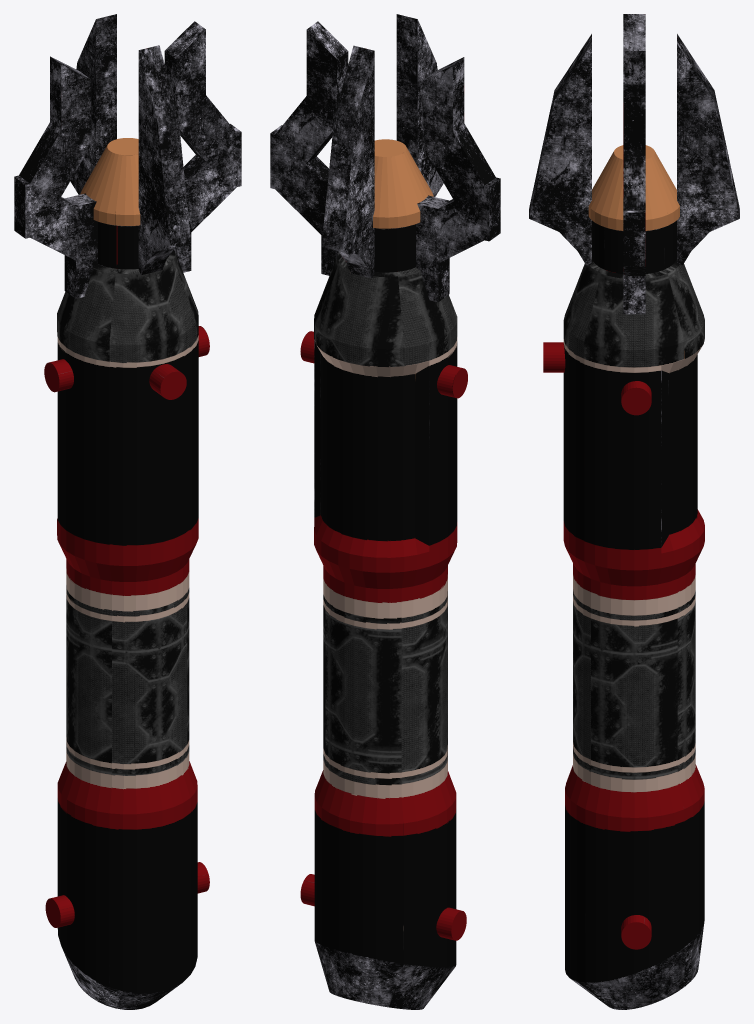
Rendered from Lightsaber_V3.fbx.
3 views of the same model, side by side, from view 1: azimuth 30°, elevation 25°; view 2: azimuth 150°, elevation 25°; view 3: azimuth 270°, elevation 25° (orthographic).
Parts seen in each view (by area): view 1: Cylinder.005; view 2: Cylinder.005; view 3: Cylinder.005.
Part boxes in pixels (x1,y1,x2,y2): Cylinder.005: (14,14,241,1009); Cylinder.005: (270,14,500,1009); Cylinder.005: (529,14,739,1009).
Size of the model in its own units: 3.33 by 14.2 by 2.82.
1 material, 1 textured.
